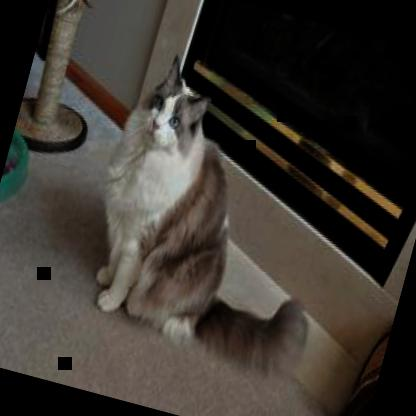cat: (72, 47, 370, 384)
